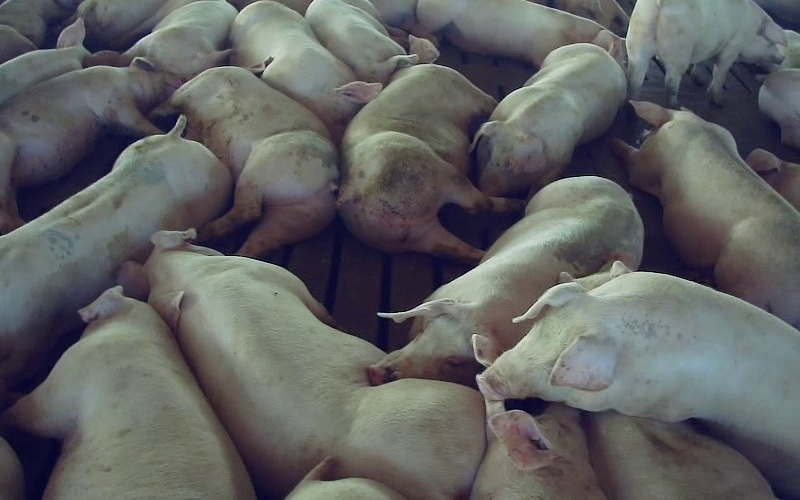pig: (117, 230, 485, 499), (478, 272, 799, 497), (0, 117, 232, 407), (372, 176, 643, 384), (4, 287, 254, 499), (613, 101, 799, 328), (337, 36, 512, 261), (156, 57, 338, 257), (0, 57, 179, 233), (473, 43, 626, 195), (230, 0, 381, 143), (626, 0, 785, 107), (583, 411, 775, 499), (415, 0, 624, 66), (471, 401, 605, 499), (305, 0, 417, 83), (123, 0, 236, 80)
